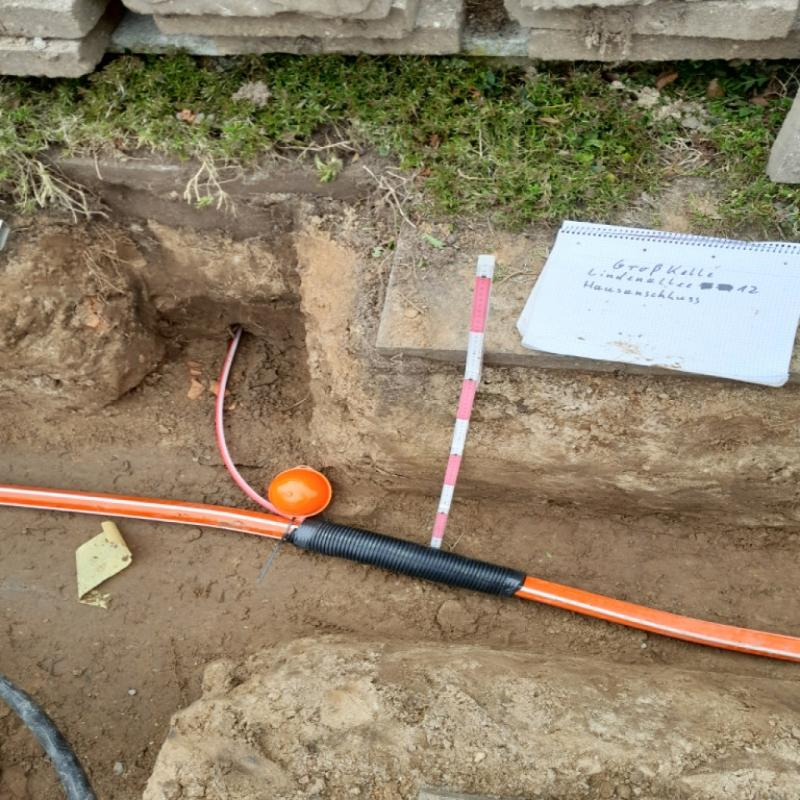Kugelmarker: (267, 466, 333, 517)
Orang-Speednetrohrchen: (1, 485, 795, 657)
